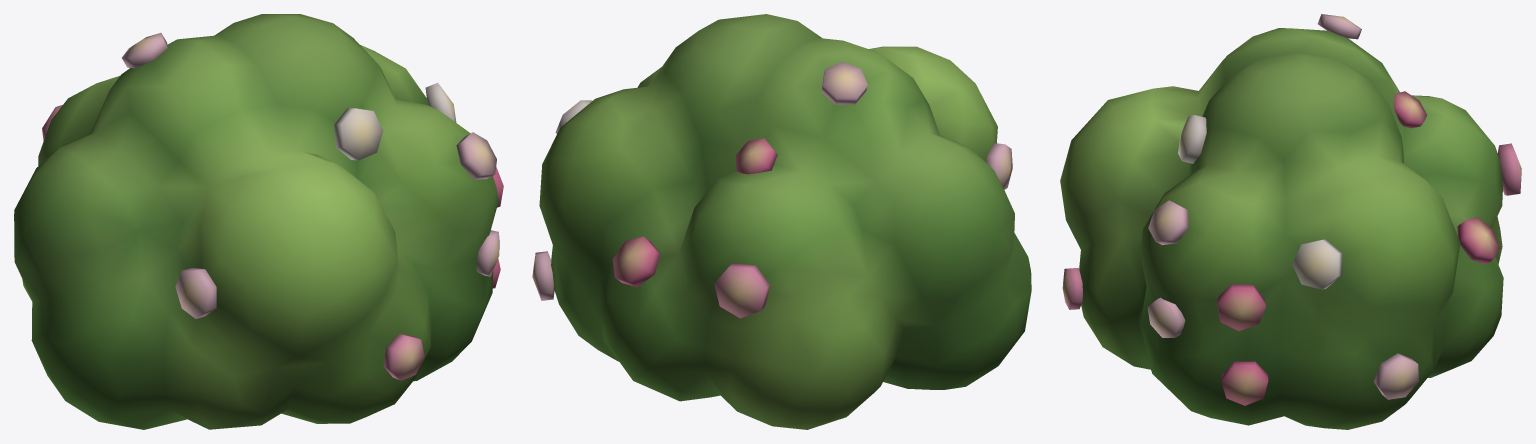
The model's file is bush-a-spring.glb.
The picture shows the model from 3 angles, left to right: view 1: azimuth 30°, elevation 25°; view 2: azimuth 150°, elevation 25°; view 3: azimuth 270°, elevation 25°; orthographic projection. The views are drawn at different scales.
Visible parts, largest first — view 1: bush-a-spring; view 2: bush-a-spring; view 3: bush-a-spring.
Part boxes in pixels (<box>): bush-a-spring: <box>14,14,503,429</box>; bush-a-spring: <box>532,14,1031,429</box>; bush-a-spring: <box>1060,14,1521,429</box>.
Size of the model in its own units: 1.02 by 0.8037 by 1.
